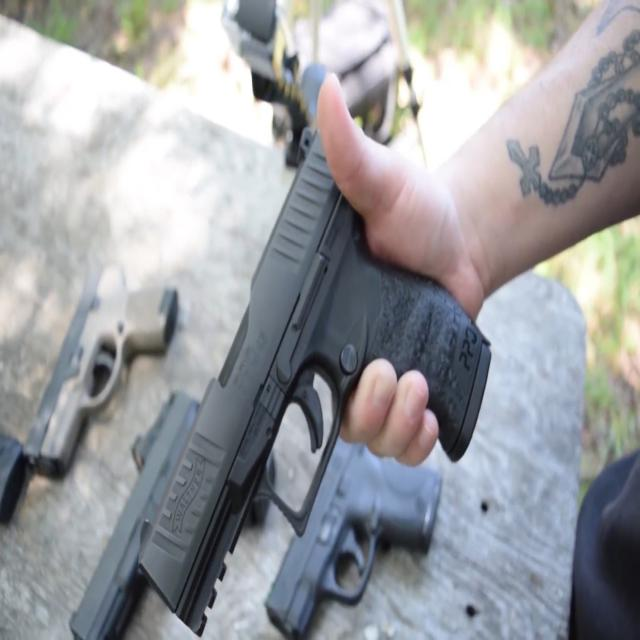handgun: (148, 125, 498, 626), (70, 354, 276, 626), (247, 400, 452, 637), (32, 230, 201, 492)
